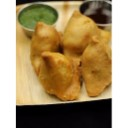samosa: (37, 51, 81, 98), (83, 37, 113, 95), (30, 21, 61, 71), (67, 11, 97, 56)
